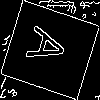A: (25, 24, 77, 72)
